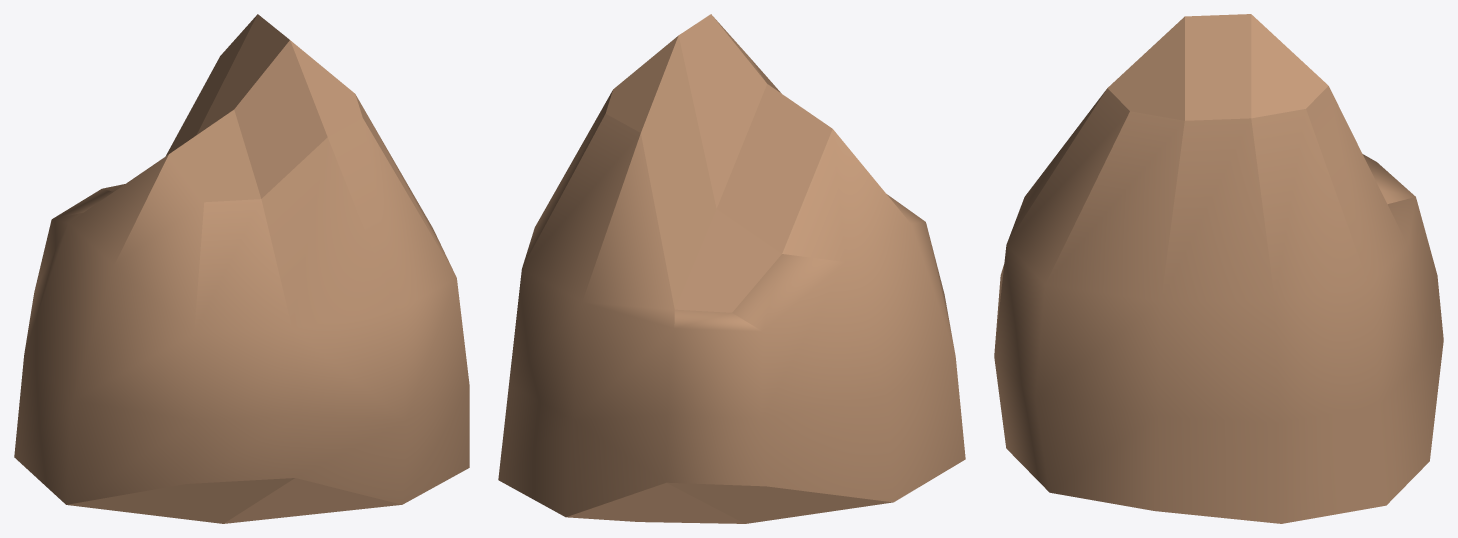
Rendered from Rock3Clean.fbx.
3 views of the same model, side by side, from view 1: azimuth 30°, elevation 25°; view 2: azimuth 150°, elevation 25°; view 3: azimuth 270°, elevation 25° (orthographic). The views are drawn at different scales.
Parts seen in each view (by area): view 1: pCube3; view 2: pCube3; view 3: pCube3.
Part boxes in pixels (x1,y1,x2,y2): pCube3: (14,14,469,523); pCube3: (498,14,965,523); pCube3: (994,14,1443,523).
Bounding box in the file's own units: 0.76 × 0.8958 × 0.7395.
